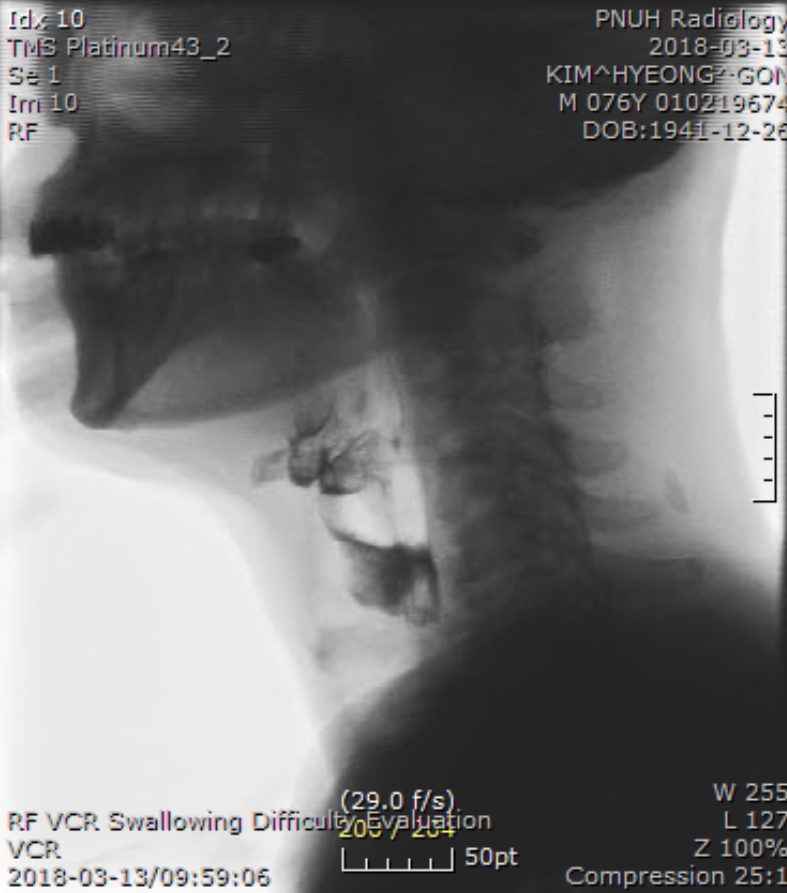dros: (323, 523, 426, 633)
food: (239, 375, 461, 662)
uros: (278, 425, 359, 500)
